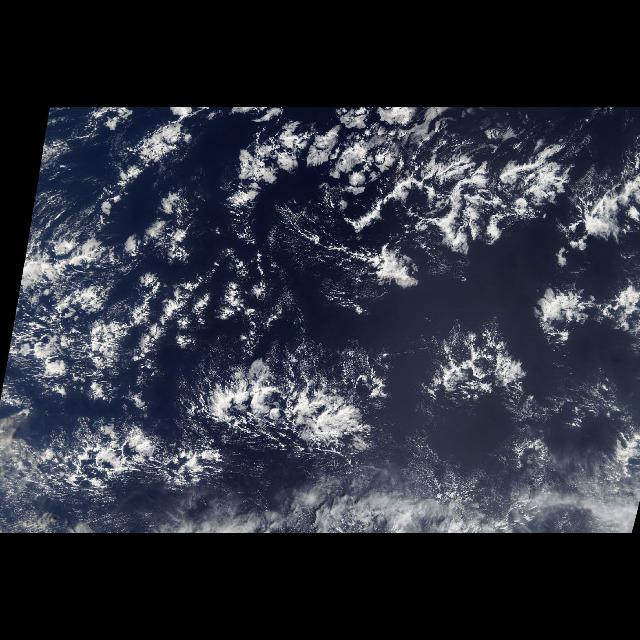Fish: (61, 114, 534, 498)
